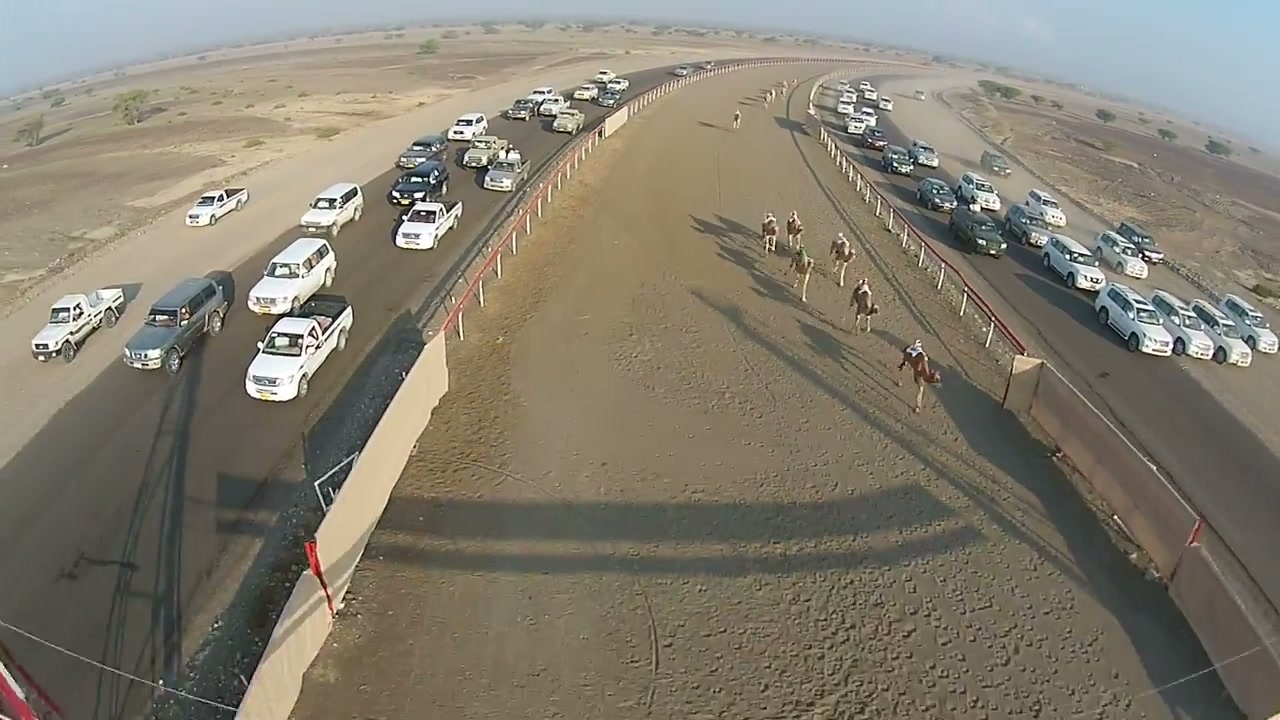animal_footprint: (808, 364, 1173, 718)
